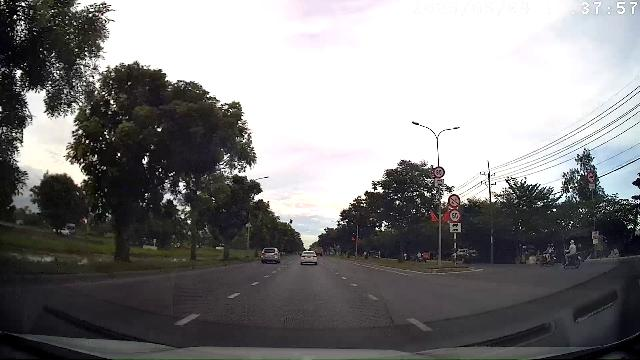127-toc-do-toi-da-60: (448, 209, 462, 222)
127-toc-do-toi-da-80: (433, 166, 445, 178)
